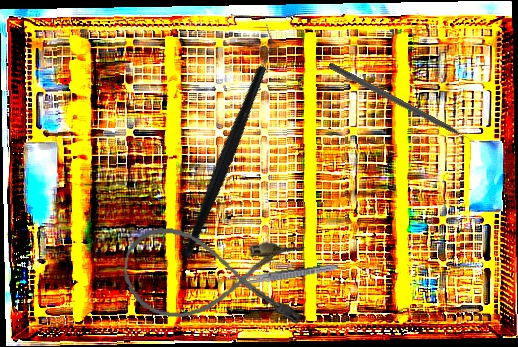Cannula: (117, 223, 310, 331)
Chopper: (113, 21, 343, 260)
Dressing Forceps: (229, 261, 341, 289)
Hook Surgical: (326, 62, 479, 148)
